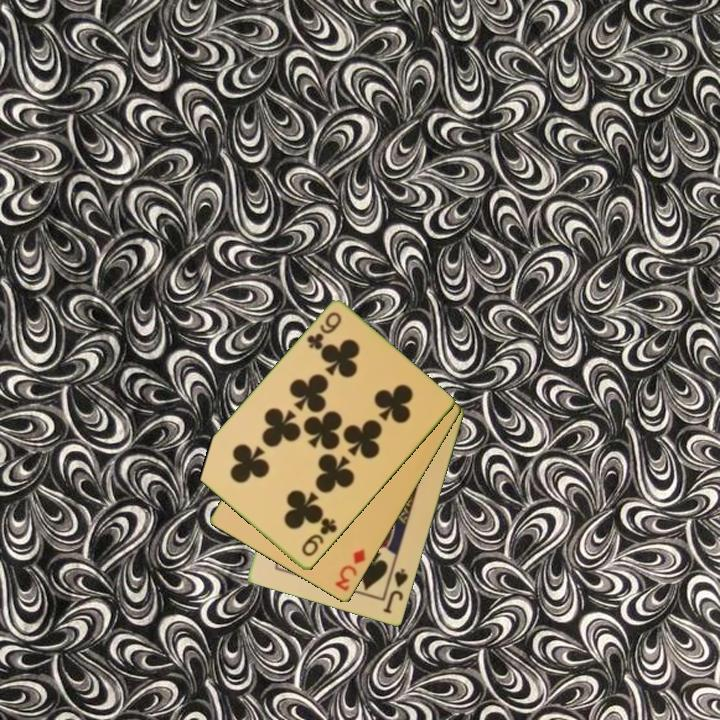3d: (331, 545, 369, 595)
9c: (298, 514, 340, 560), (303, 309, 344, 353)
Js: (380, 565, 411, 617)
